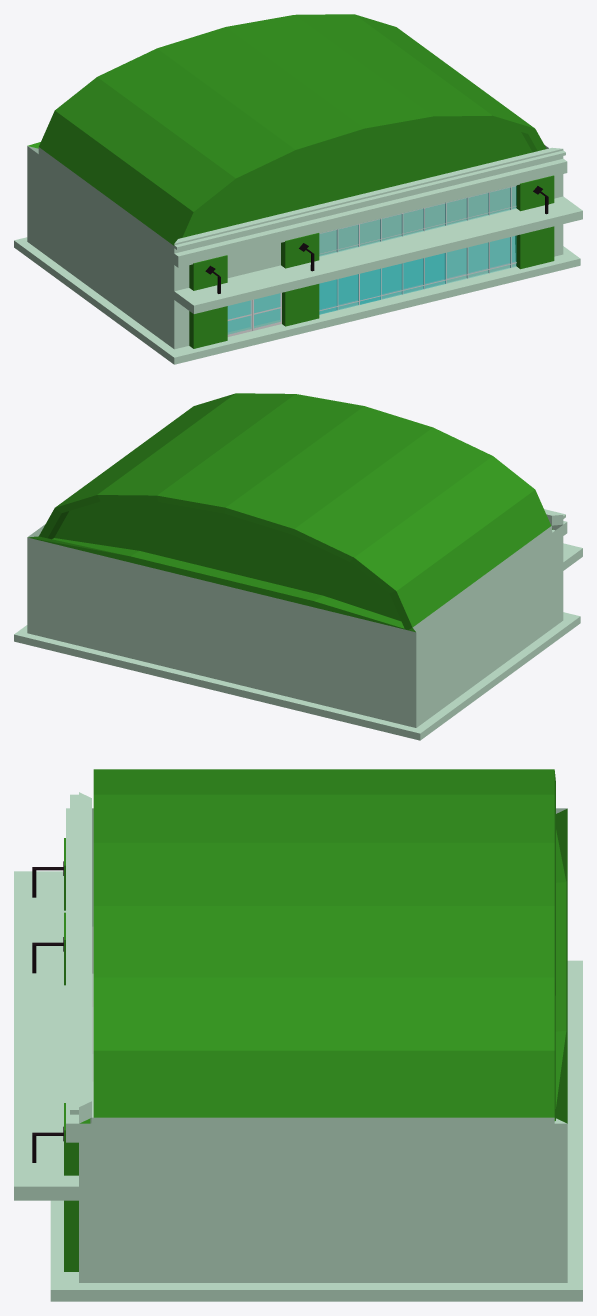
File: Grocery.fbx
3 views of the same model, one above another, from view 1: azimuth 30°, elevation 25°; view 2: azimuth 150°, elevation 25°; view 3: azimuth 270°, elevation 25° (orthographic). The views are drawn at different scales.
Visible parts, largest first — view 1: Plane, Plane.002, Plane.025, Plane.024, Plane.021, Plane.022, Plane.020, Plane.013, Plane.008, Plane.014, Plane.015, Plane.007 (+15 smaller); view 2: Plane; view 3: Plane, Plane.002.
Part boxes in pixels (<box>): Plane: <box>14,14,582,364</box>; Plane.002: <box>189,175,554,348</box>; Plane.025: <box>252,293,281,330</box>; Plane.024: <box>227,300,252,336</box>; Plane.021: <box>466,242,489,278</box>; Plane.022: <box>488,237,511,273</box>; Plane.020: <box>444,248,467,283</box>; Plane.013: <box>380,263,403,299</box>; Plane.008: <box>358,269,381,304</box>; Plane.014: <box>401,258,424,294</box>; Plane.015: <box>423,253,446,288</box>; Plane.007: <box>337,274,358,309</box>; Plane: <box>14,393,582,740</box>; Plane: <box>14,769,582,1301</box>; Plane.002: <box>64,838,90,1271</box>.
Bounding box in the file's own units: 1560 × 658 × 1139.
